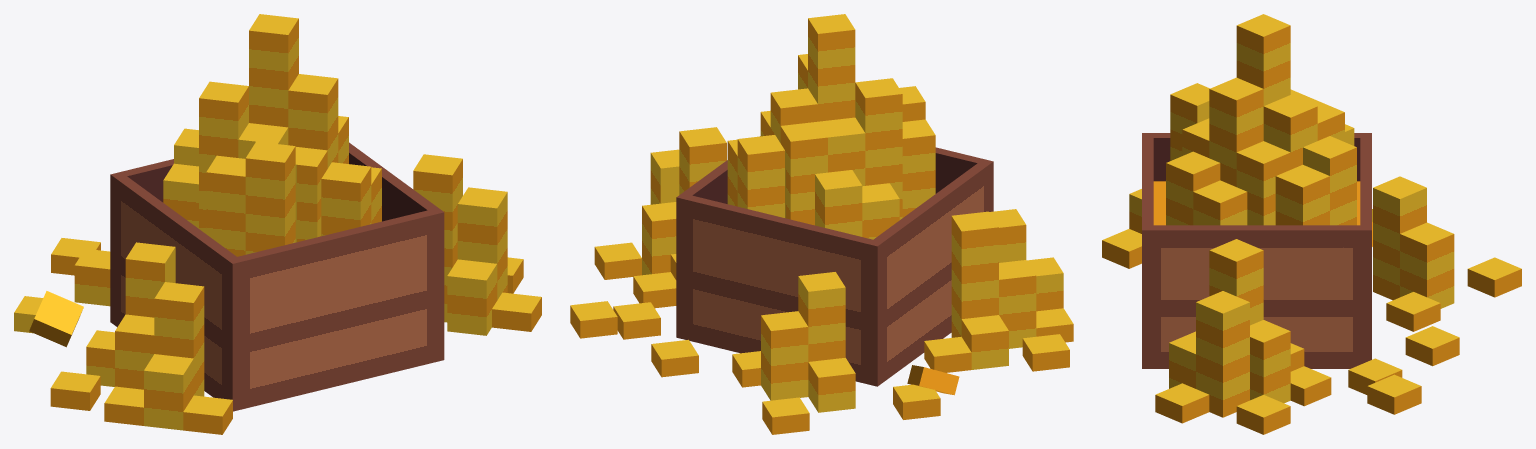
File: goldStash.gltf
3 renders of one model, left to right at view 1: azimuth 30°, elevation 25°; view 2: azimuth 150°, elevation 25°; view 3: azimuth 270°, elevation 25°, orthographic. The views are drawn at different scales.
Visible parts, largest first — view 1: cuboid (×30); view 2: cuboid (×35); view 3: cuboid (×29).
Part boxes in pixels (x1,y1,x2,y2): cuboid (×30): [14, 14, 541, 434]; cuboid (×35): [570, 14, 1073, 434]; cuboid (×29): [1102, 14, 1521, 434].
Size of the model in its own units: 1.72 by 1.07 by 1.37.
Materials: 1 (1 with a texture image).
